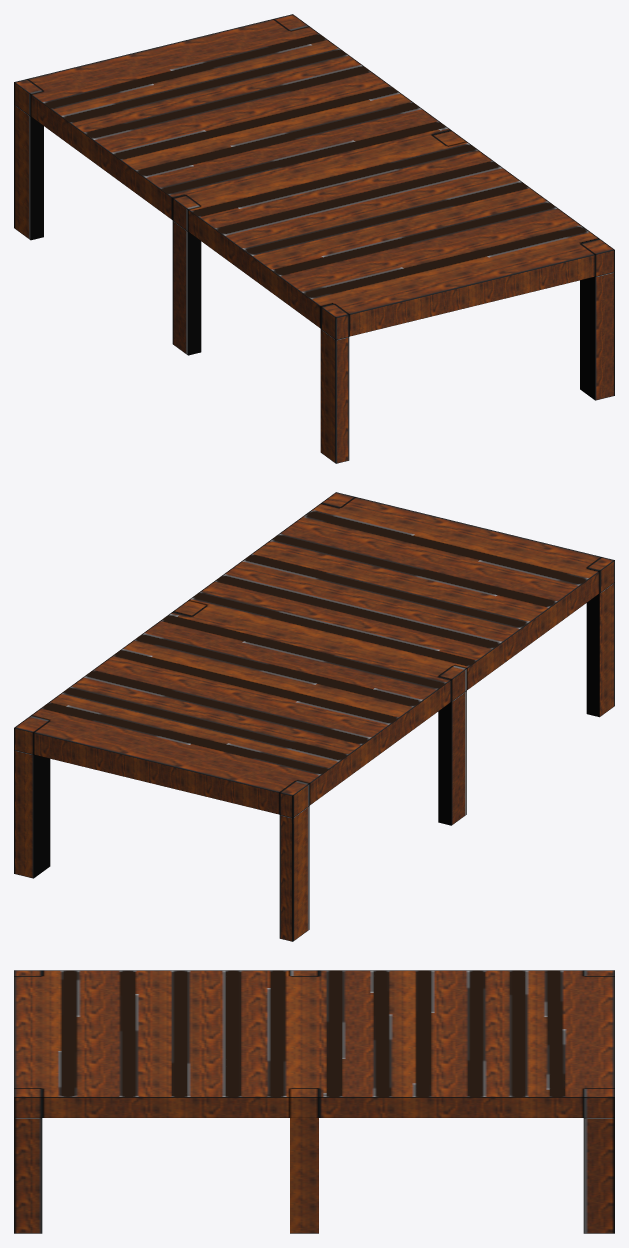
Rendered from bridge.glb.
3 views of the same model, one above another, from view 1: azimuth 30°, elevation 25°; view 2: azimuth 150°, elevation 25°; view 3: azimuth 270°, elevation 25° (orthographic). The views are drawn at different scales.
Parts seen in each view (by area): view 1: Bridge; view 2: Bridge; view 3: Bridge.
Boxes of the visible parts, x1,y1,x2,y2 form: Bridge: (14,14,614,463); Bridge: (14,492,614,941); Bridge: (14,970,614,1233).
Bounding box in the file's own units: 4 × 2 × 8.
Materials: 1 (1 with a texture image).
